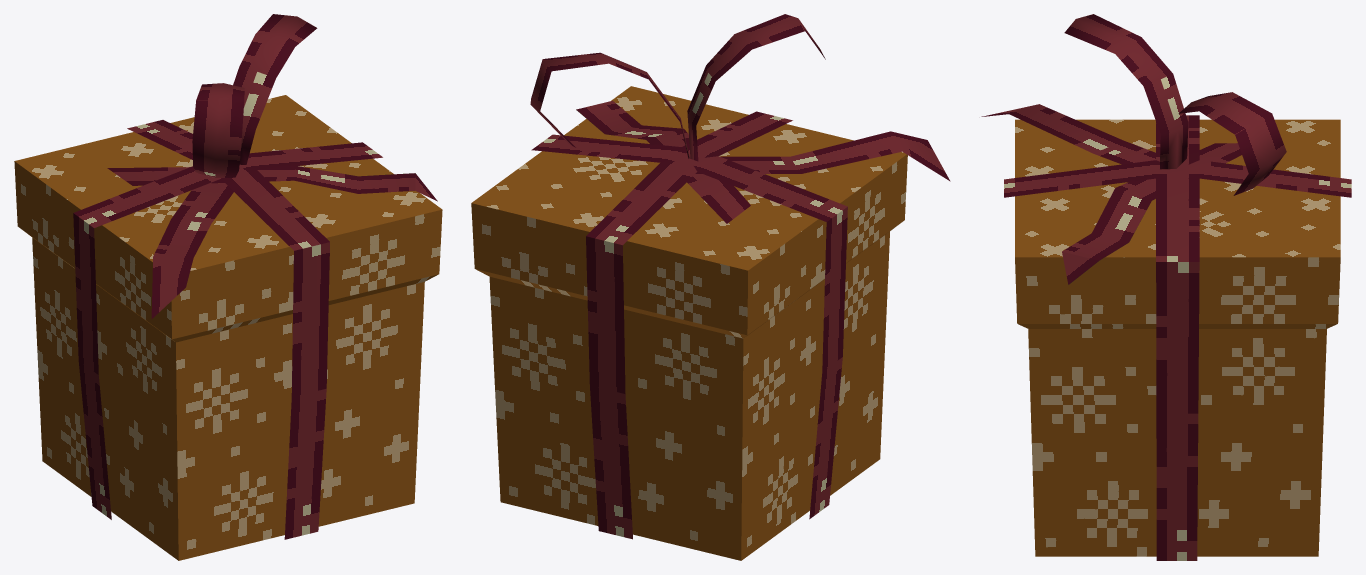
The model's file is SM_Present.glb.
The picture shows the model from 3 angles, left to right: view 1: azimuth 30°, elevation 25°; view 2: azimuth 150°, elevation 25°; view 3: azimuth 270°, elevation 25°; orthographic projection. The views are drawn at different scales.
Visible parts, largest first — view 1: SM_Present; view 2: SM_Present; view 3: SM_Present.
Boxes of the visible parts, x1,y1,x2,y2 form: SM_Present: [14, 14, 442, 560]; SM_Present: [471, 14, 950, 560]; SM_Present: [981, 14, 1351, 560].
Size of the model in its own units: 2.28 by 2.97 by 2.19.
1 material, 1 textured.
